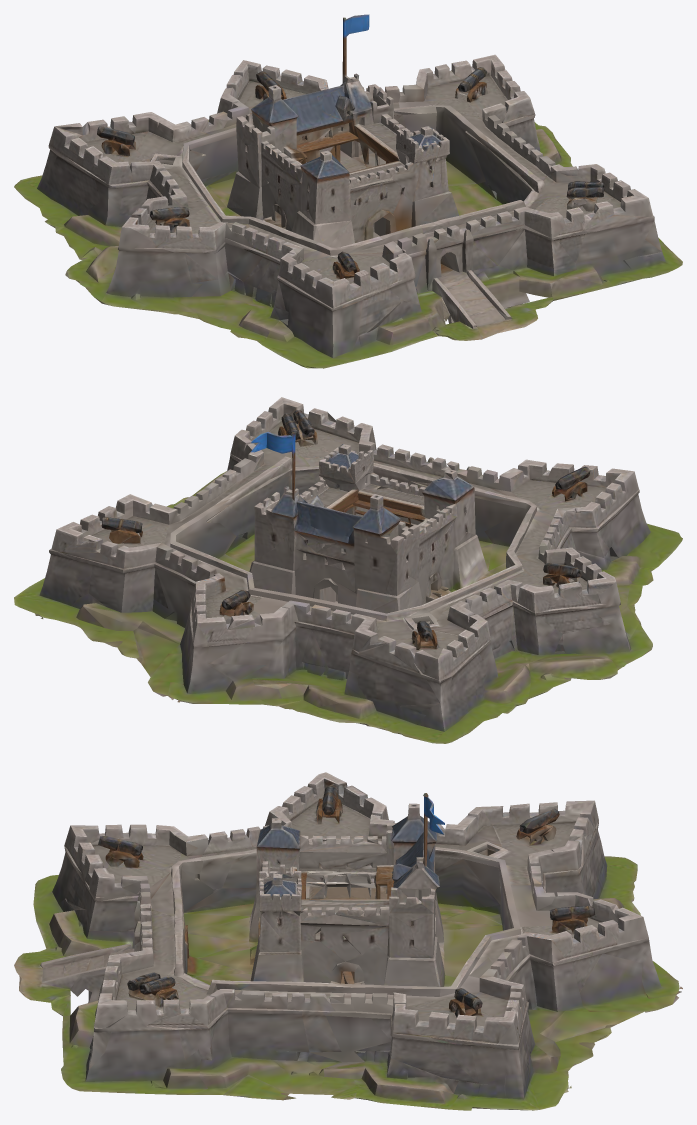
The model's file is castle.glb.
The picture shows the model from 3 angles, top to bottom: view 1: azimuth 30°, elevation 25°; view 2: azimuth 150°, elevation 25°; view 3: azimuth 270°, elevation 25°; orthographic projection. The views are drawn at different scales.
Bounding box in the file's own units: 1.89 × 0.669 × 1.9.
Materials: 1 (1 with a texture image).
